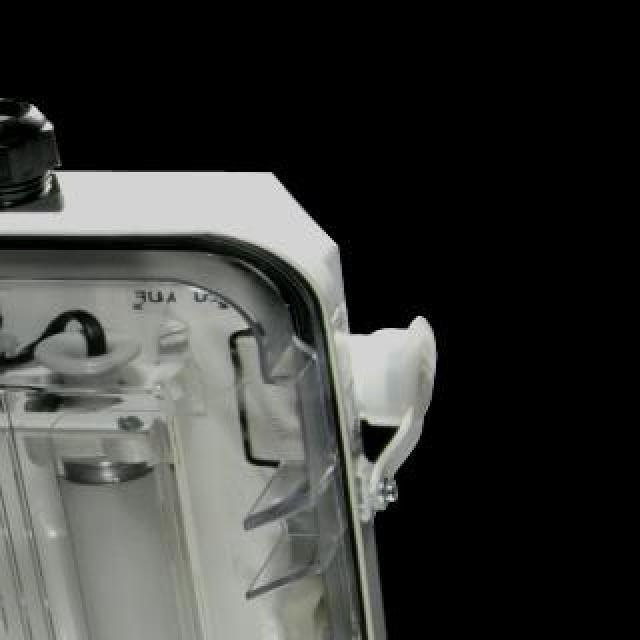fluorescent tube: (42, 366, 294, 640), (0, 372, 100, 640)
